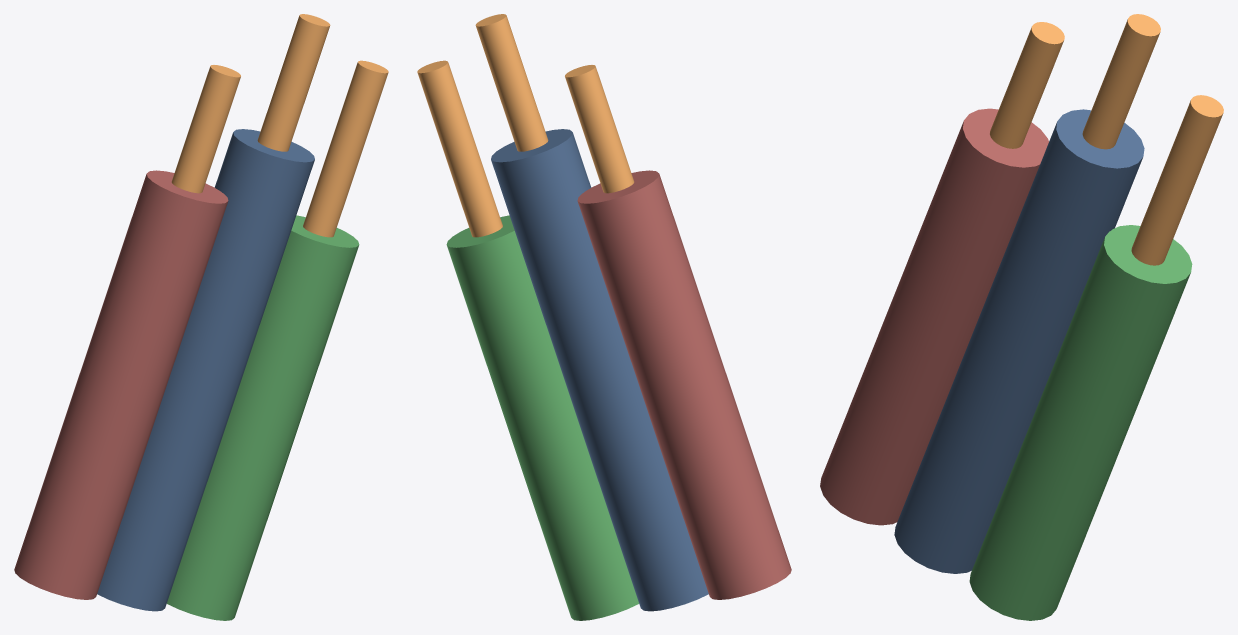
Rendered from Wires_Model.fbx.
3 renders of one model, left to right at view 1: azimuth 30°, elevation 25°; view 2: azimuth 150°, elevation 25°; view 3: azimuth 330°, elevation 25°, orthographic. The views are drawn at different scales.
Parts seen in each view (by area): view 1: pasted__pCylinder1, Wire, pasted__pasted__pCylinder1, pasted__pasted__pasted__pCylinder1, pasted__pasted__pasted__pasted__pCylinder1, pasted__pasted__pasted__pasted__pasted__pCylinder1; view 2: pasted__pCylinder1, Wire, pasted__pasted__pCylinder1, pasted__pasted__pasted__pCylinder1, pasted__pasted__pasted__pasted__pCylinder1, pasted__pasted__pasted__pasted__pasted__pCylinder1; view 3: Wire, pasted__pasted__pCylinder1, pasted__pCylinder1, pasted__pasted__pasted__pCylinder1, pasted__pasted__pasted__pasted__pCylinder1, pasted__pasted__pasted__pasted__pasted__pCylinder1.
Boxes of the visible parts, <box> form: pasted__pCylinder1: <box>14,170,228,599</box>; Wire: <box>97,129,314,611</box>; pasted__pasted__pCylinder1: <box>167,215,359,620</box>; pasted__pasted__pasted__pCylinder1: <box>303,60,388,237</box>; pasted__pasted__pasted__pasted__pCylinder1: <box>257,14,330,151</box>; pasted__pasted__pasted__pasted__pasted__pCylinder1: <box>171,65,240,193</box>; pasted__pCylinder1: <box>577,170,791,599</box>; Wire: <box>491,129,708,611</box>; pasted__pasted__pCylinder1: <box>446,215,638,620</box>; pasted__pasted__pasted__pCylinder1: <box>417,60,502,237</box>; pasted__pasted__pasted__pasted__pCylinder1: <box>475,14,548,151</box>; pasted__pasted__pasted__pasted__pasted__pCylinder1: <box>565,65,634,193</box>; Wire: <box>894,109,1144,573</box>; pasted__pasted__pCylinder1: <box>969,225,1192,620</box>; pasted__pCylinder1: <box>820,108,1048,525</box>; pasted__pasted__pasted__pCylinder1: <box>1131,95,1223,265</box>; pasted__pasted__pasted__pasted__pCylinder1: <box>1082,14,1160,149</box>; pasted__pasted__pasted__pasted__pasted__pCylinder1: <box>990,22,1064,148</box>.
Size of the model in its own units: 2.97 by 4.44 by 0.6058.
